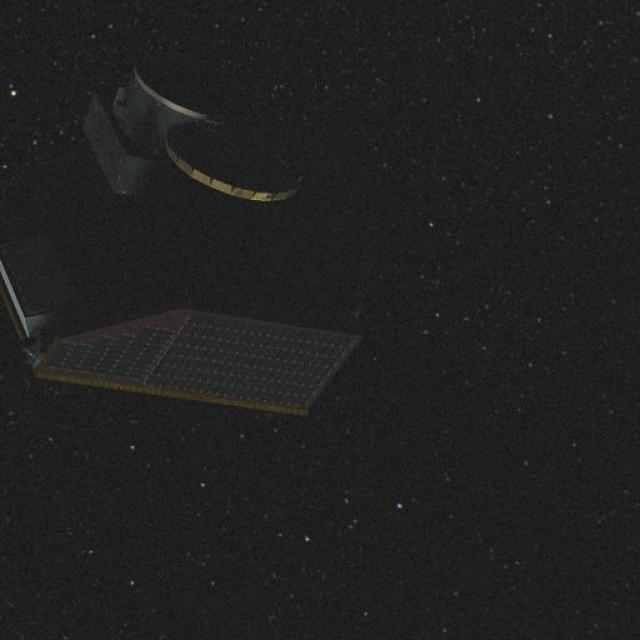cheops: (14, 68, 388, 402)
